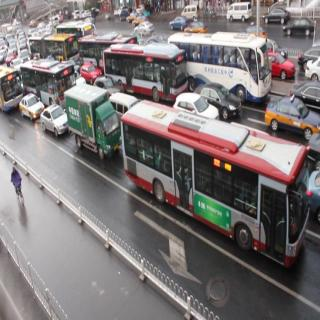BigCar: (119, 95, 312, 269), (168, 26, 275, 103), (103, 36, 188, 104), (58, 80, 122, 160), (18, 56, 73, 108), (26, 32, 80, 66), (1, 65, 28, 120), (54, 18, 91, 57)
Car: (260, 87, 319, 144), (287, 15, 318, 47), (36, 106, 68, 132), (18, 90, 44, 122), (226, 2, 252, 22), (133, 18, 156, 39), (167, 15, 187, 32)
